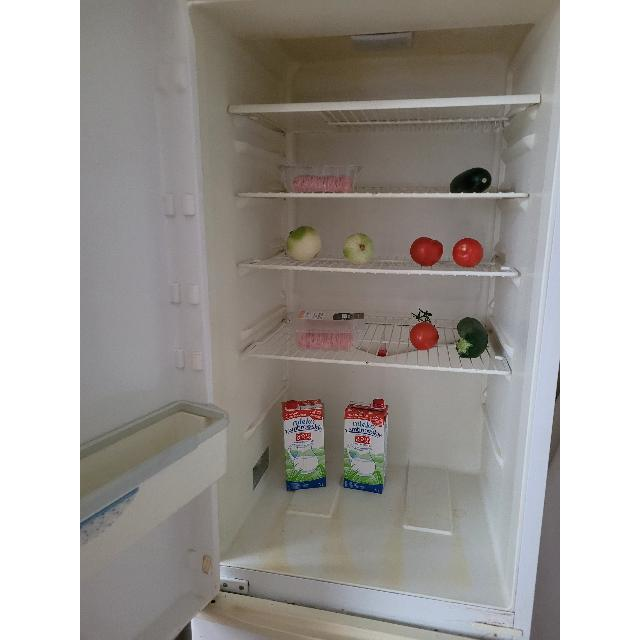meat: (292, 174, 354, 193), (297, 332, 355, 351)
milk: (344, 398, 390, 494), (282, 396, 326, 492)
onion: (285, 226, 321, 262), (344, 233, 374, 264)
tomato: (410, 236, 442, 268), (452, 238, 484, 268), (408, 321, 439, 351)
zucchini: (456, 316, 488, 358), (449, 167, 493, 193)
